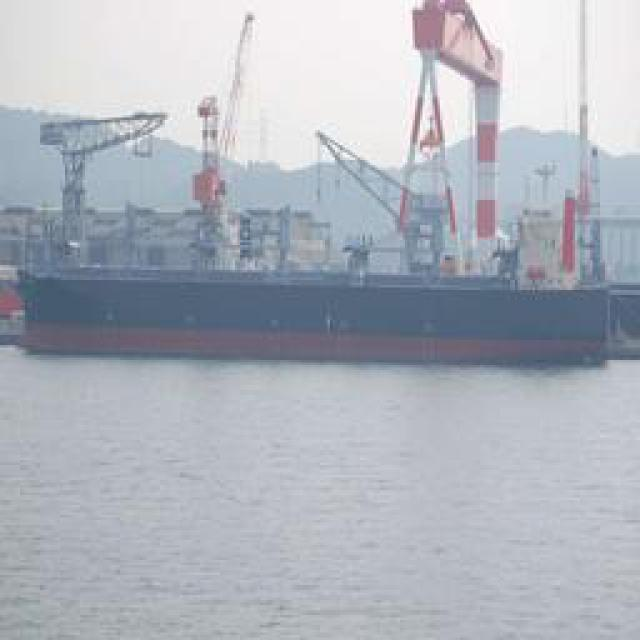Ship: (11, 2, 631, 355)
